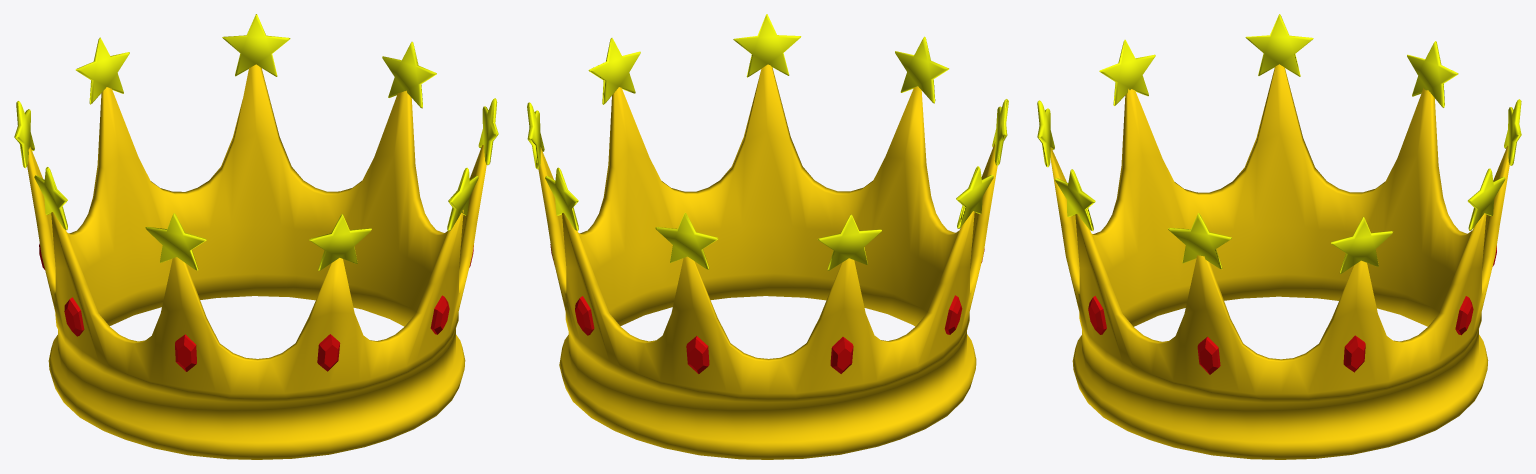
The model's file is sec1Item.glb.
The picture shows the model from 3 angles, left to right: view 1: azimuth 30°, elevation 25°; view 2: azimuth 150°, elevation 25°; view 3: azimuth 270°, elevation 25°; orthographic projection.
Visible parts, largest first — view 1: crown; view 2: crown; view 3: crown.
Boxes of the visible parts, left/top/right/bottom form: crown: left=14, top=14, right=498, bottom=459; crown: left=527, top=14, right=1008, bottom=459; crown: left=1037, top=14, right=1521, bottom=459.
Size of the model in its own units: 0.0339 by 0.0202 by 0.0341.
